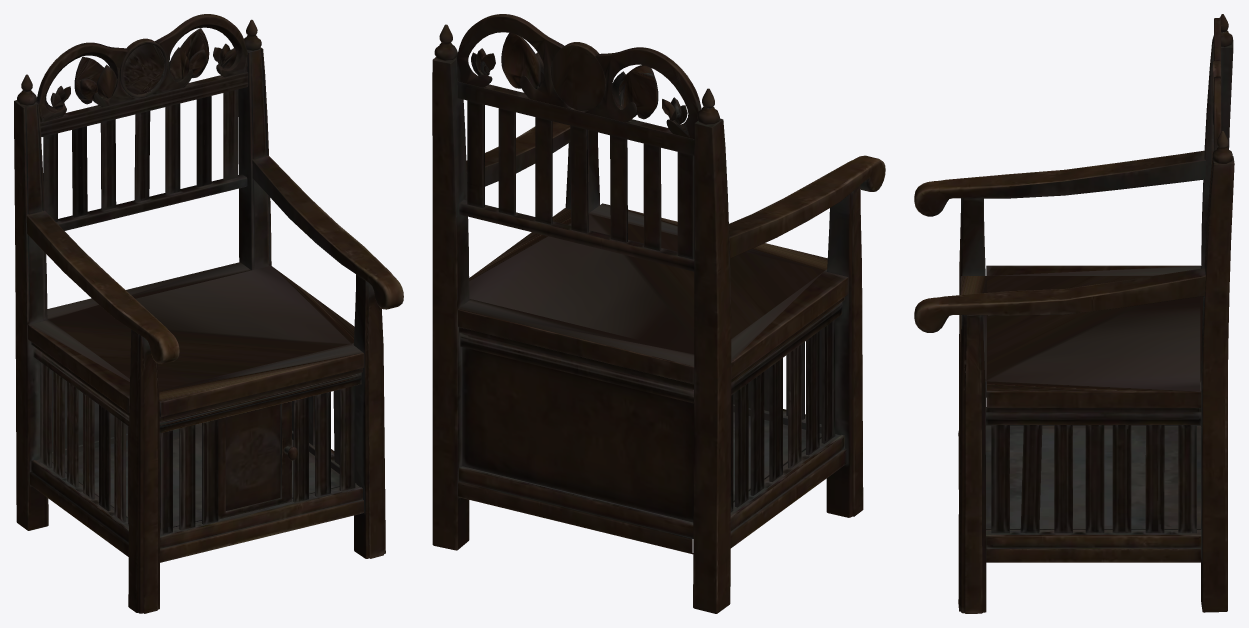
The model's file is gallinera-chair.glb.
The picture shows the model from 3 angles, left to right: view 1: azimuth 30°, elevation 25°; view 2: azimuth 150°, elevation 25°; view 3: azimuth 270°, elevation 25°; orthographic projection. The views are drawn at different scales.
Parts seen in each view (by area): view 1: gallinera_chair; view 2: gallinera_chair; view 3: gallinera_chair.
Boxes of the visible parts, x1,y1,x2,y2 form: gallinera_chair: [14, 14, 403, 613]; gallinera_chair: [432, 14, 885, 613]; gallinera_chair: [914, 14, 1234, 613].
Bounding box in the file's own units: 0.5809 × 1.03 × 0.6039.
1 material, 1 textured.
